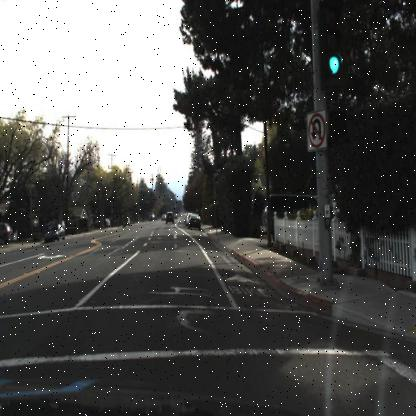car: (258, 186, 328, 247), (42, 221, 64, 244), (186, 211, 202, 231), (0, 222, 12, 246)
trafficLight-Green: (320, 3, 345, 86)
